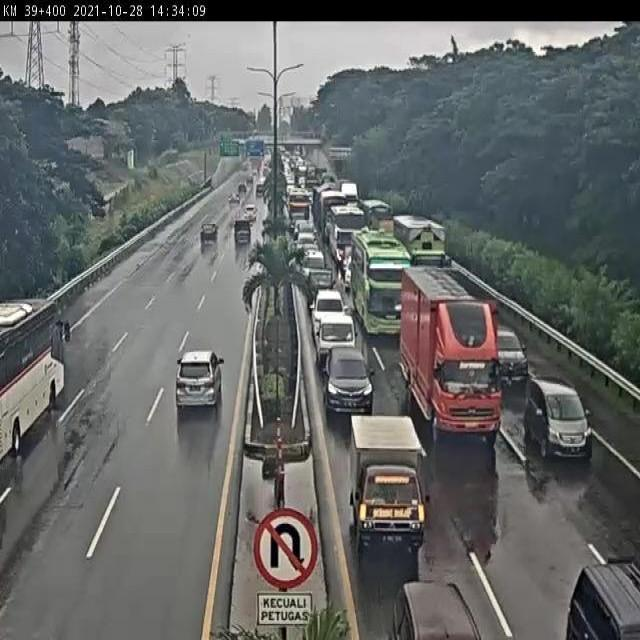bus-l-: (0, 296, 70, 459), (350, 229, 411, 335), (330, 208, 366, 265)
car: (351, 416, 431, 548), (554, 526, 640, 638), (519, 376, 593, 461), (324, 347, 375, 416), (176, 350, 225, 410), (487, 322, 532, 382), (314, 314, 357, 366), (309, 292, 348, 331), (303, 269, 336, 304), (232, 219, 254, 248), (198, 220, 219, 245), (303, 250, 328, 270), (342, 252, 357, 285), (297, 234, 317, 258), (293, 218, 316, 238)
truck-l-: (403, 267, 501, 440), (392, 216, 453, 292)
